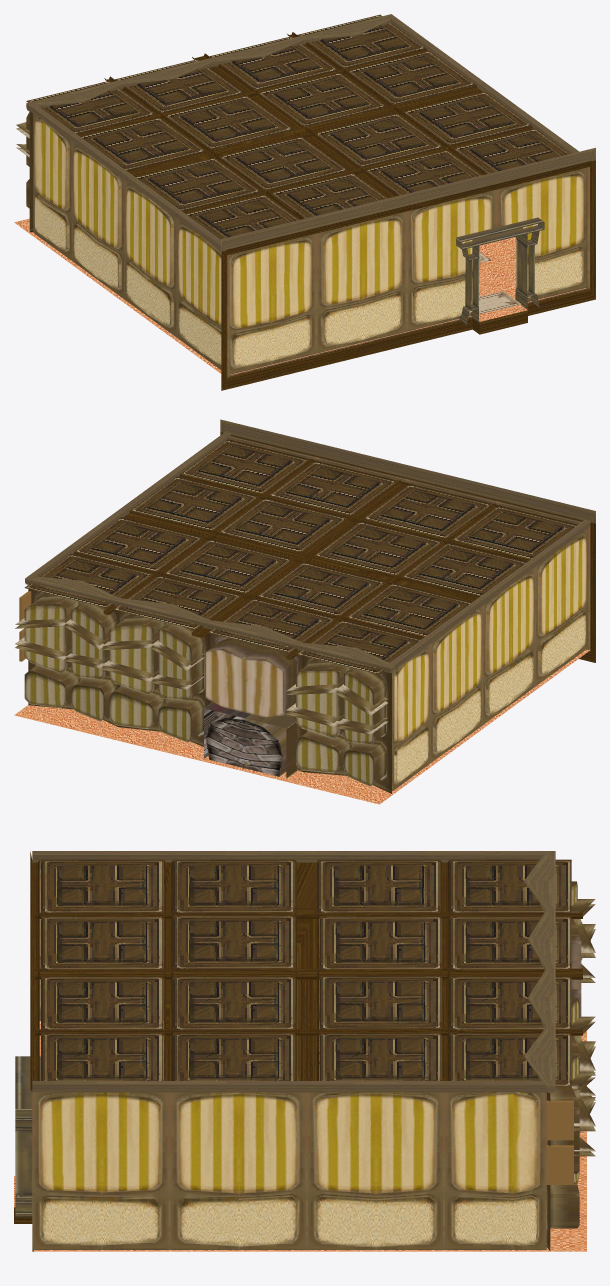
File: room_34.glb
3 renders of one model, top to bottom at view 1: azimuth 30°, elevation 25°; view 2: azimuth 150°, elevation 25°; view 3: azimuth 270°, elevation 25°, orthographic. The views are drawn at different scales.
Visible parts, largest first — view 1: room_34; view 2: room_34; view 3: room_34.
Boxes of the visible parts, x1,y1,x2,y2 form: room_34: (14,14,595,390); room_34: (14,419,595,804); room_34: (14,851,595,1251).
Bounding box in the file's own units: 1550 × 600 × 1590.
Materials: 18 (18 with a texture image).
